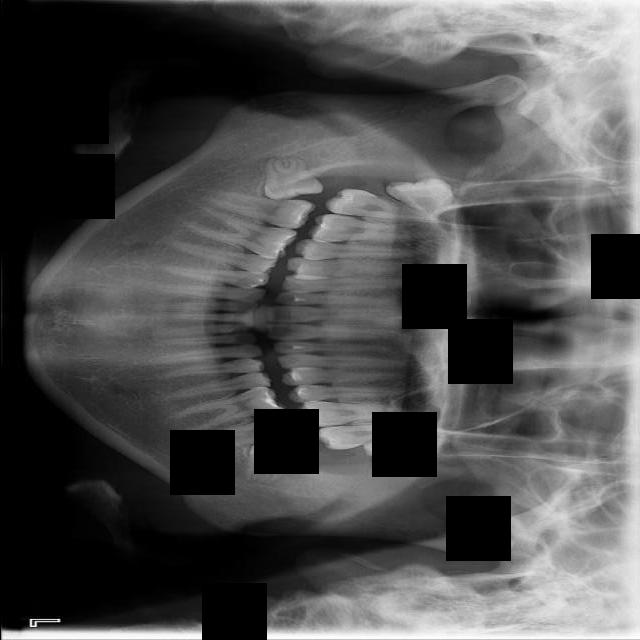3M ESPE Implant: (383, 155, 479, 241)
52: (248, 215, 300, 269), (238, 376, 288, 428), (255, 406, 303, 452), (267, 193, 317, 235), (324, 186, 380, 217), (307, 213, 356, 244), (297, 399, 348, 428), (287, 383, 333, 404), (280, 366, 322, 386), (230, 270, 269, 290), (274, 289, 318, 306), (271, 341, 317, 355)
73: (31, 619, 45, 626)
BioHorizons Implant: (314, 423, 436, 450)
BioLife Implant: (362, 435, 446, 466)
Biomet 3i Implant: (242, 438, 312, 492)
Blue Sky Bio Implant: (187, 412, 302, 451)
Caries: (323, 186, 441, 224)
Keystone Dental Implant: (262, 155, 324, 202)
